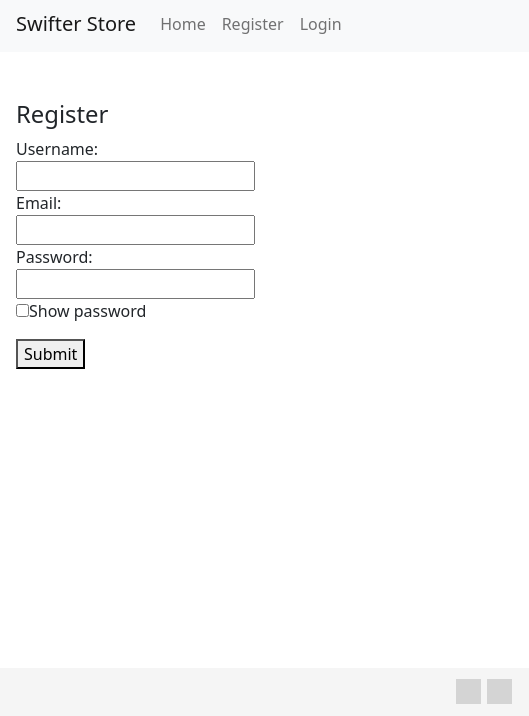
tests layout and functionality of Register page › contains a paragraph with correct error text if password too short
Type "batman75" into the field with test id "register-username-field".
click(136, 176); type("batman75")  # box [16,161,255,191]
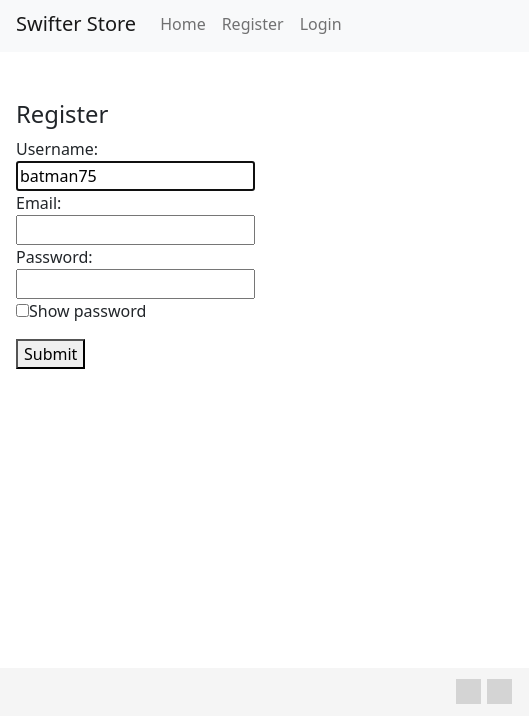
Type "batman75@gmail.com" into the field with test id "register-email-field".
click(136, 230); type("batman75@gmail.com")  # box [16,215,255,245]
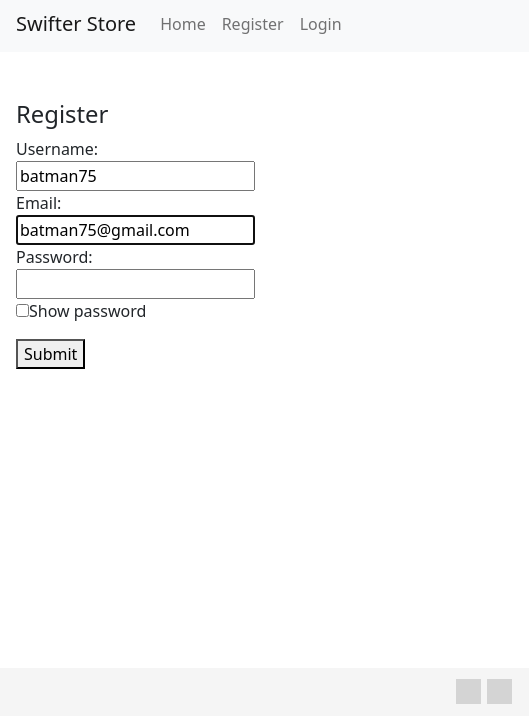
Type "gotham" into the password field with test id "register-password-field".
click(136, 284); type("gotham")  # box [16,269,255,299]
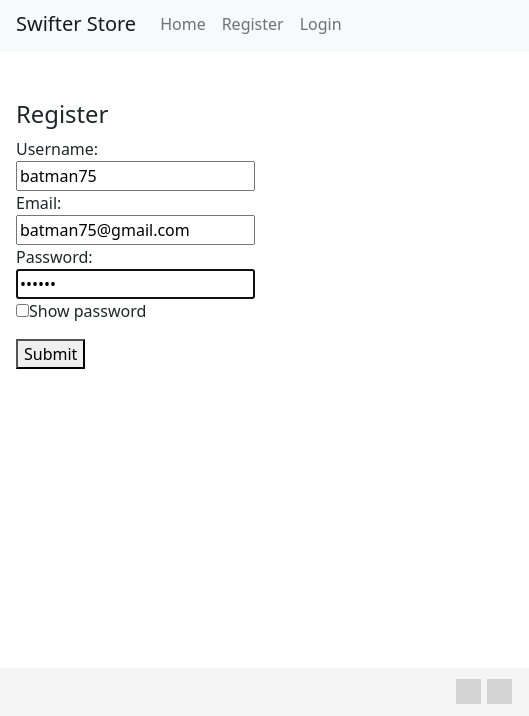
Click the button with test id "register-submit-button".
click(51, 354)  # box [16,339,85,369]
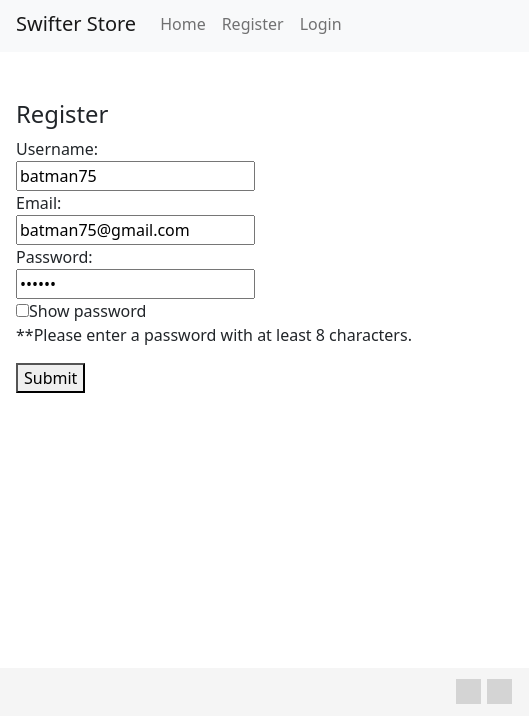
Result: the text "**Please enter a password with at least 8 characters." is shown at [16,324,412,346]
